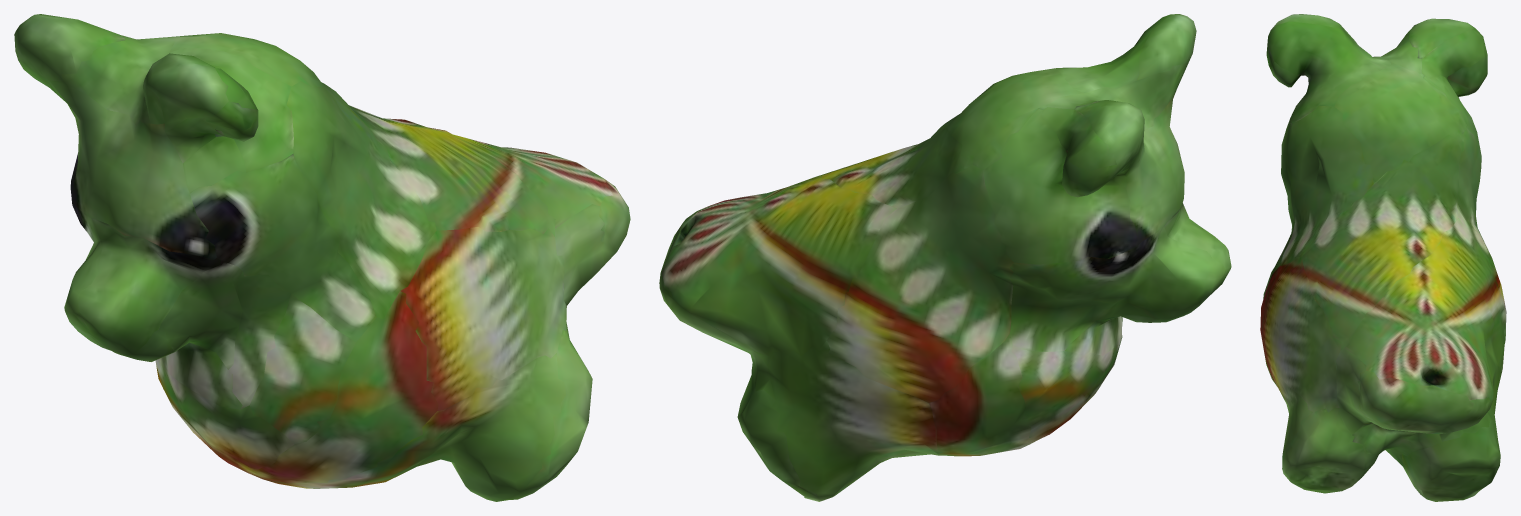
File: hall.glb
3 views of the same model, side by side, from view 1: azimuth 30°, elevation 25°; view 2: azimuth 150°, elevation 25°; view 3: azimuth 270°, elevation 25° (orthographic). The views are drawn at different scales.
Size of the model in its own units: 0.807 by 0.7181 by 0.4185.
Materials: 1 (1 with a texture image).
